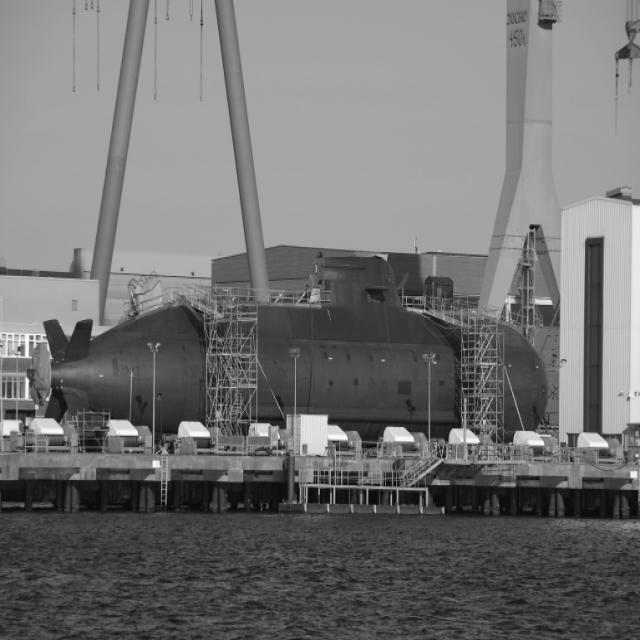submarine: (46, 253, 547, 436)
